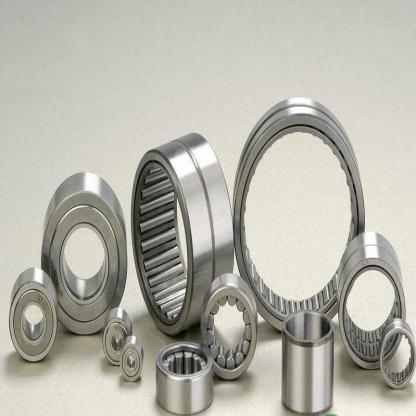FOD: (38, 167, 130, 340), (6, 267, 60, 366), (100, 307, 137, 367), (118, 335, 146, 386)
